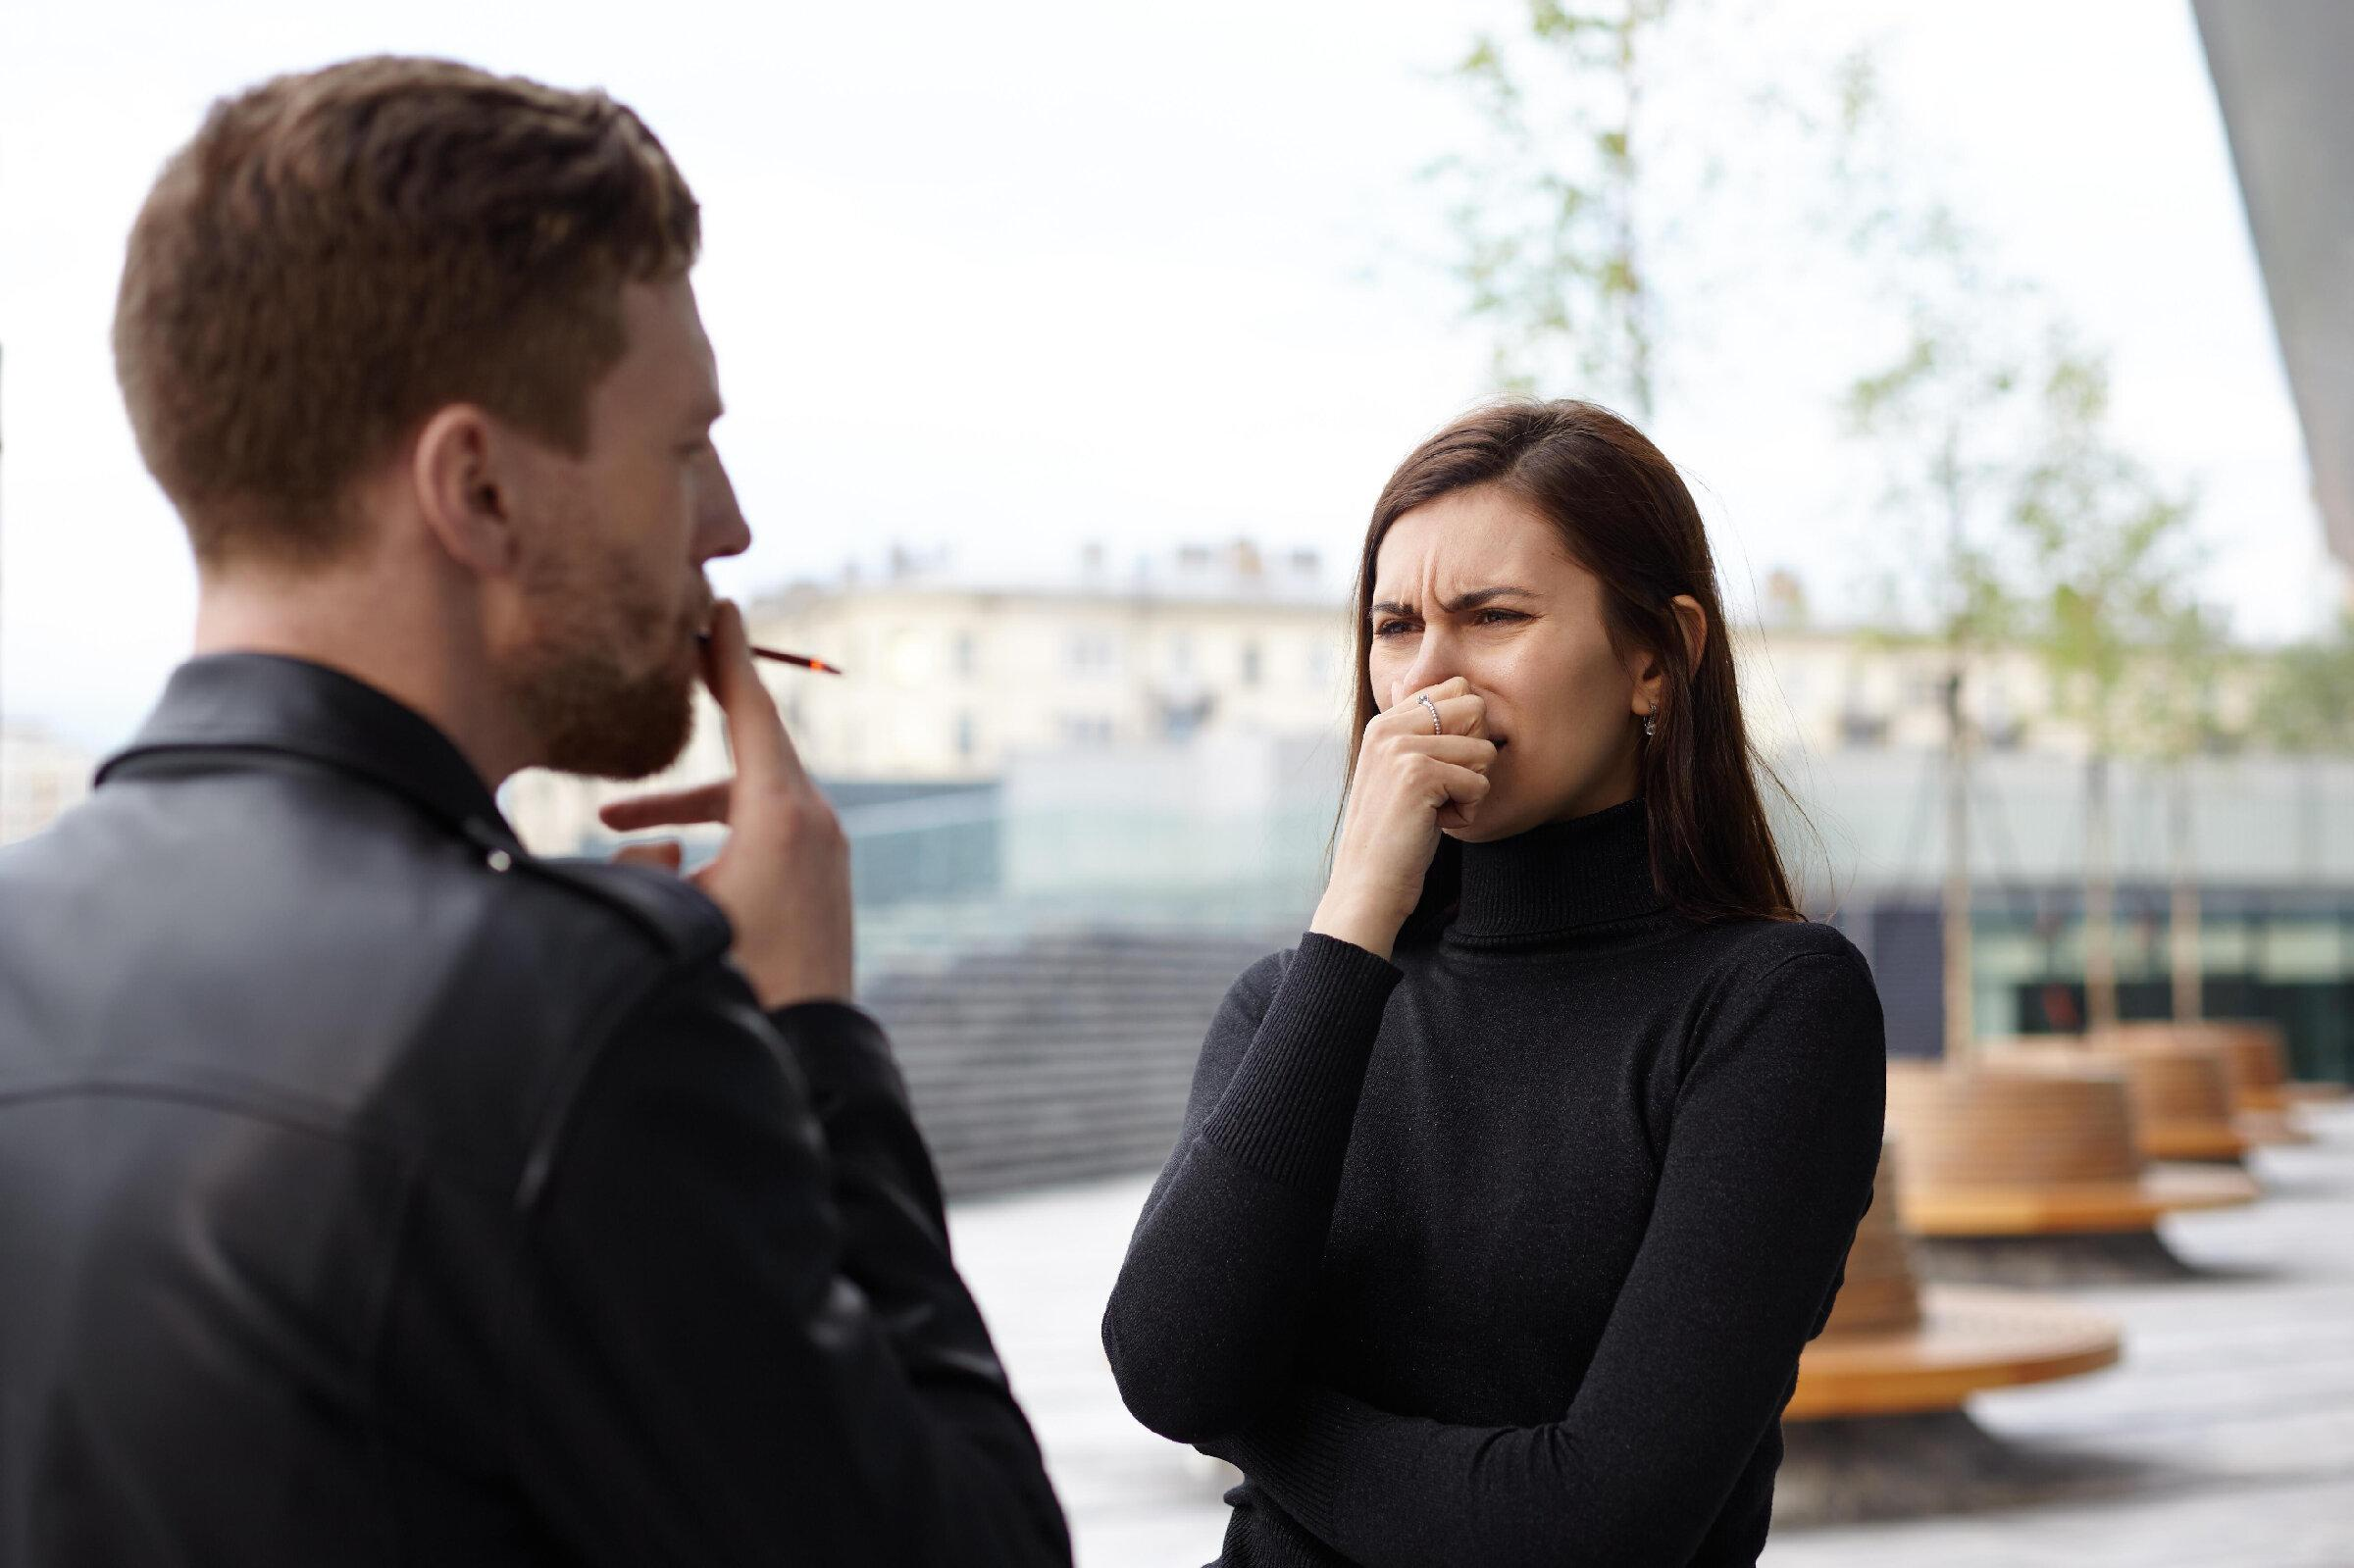cigarette: (695, 633, 840, 674)
